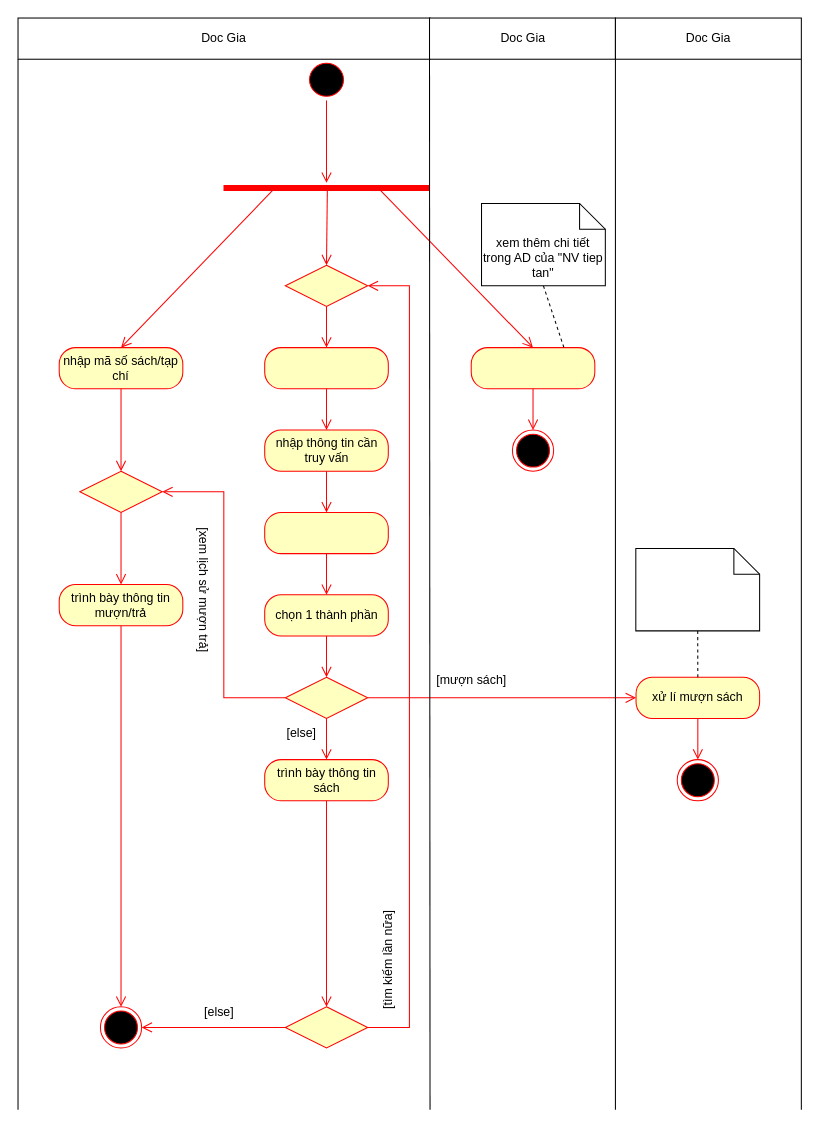
The diagram is 821 pixels wide and 1129 high, and some of its shapes have lost their labels. Here are the shapes that lost their labels. From the top down, the centre of each, then its label:
[326,368]: chọn loại tìm kiếm
[532,368]: đăng kí thành viên
[326,532]: liệt kê danh sách kết quả
[697,589]: xem thêm chi tiết trong AD của "Thanh vien"
